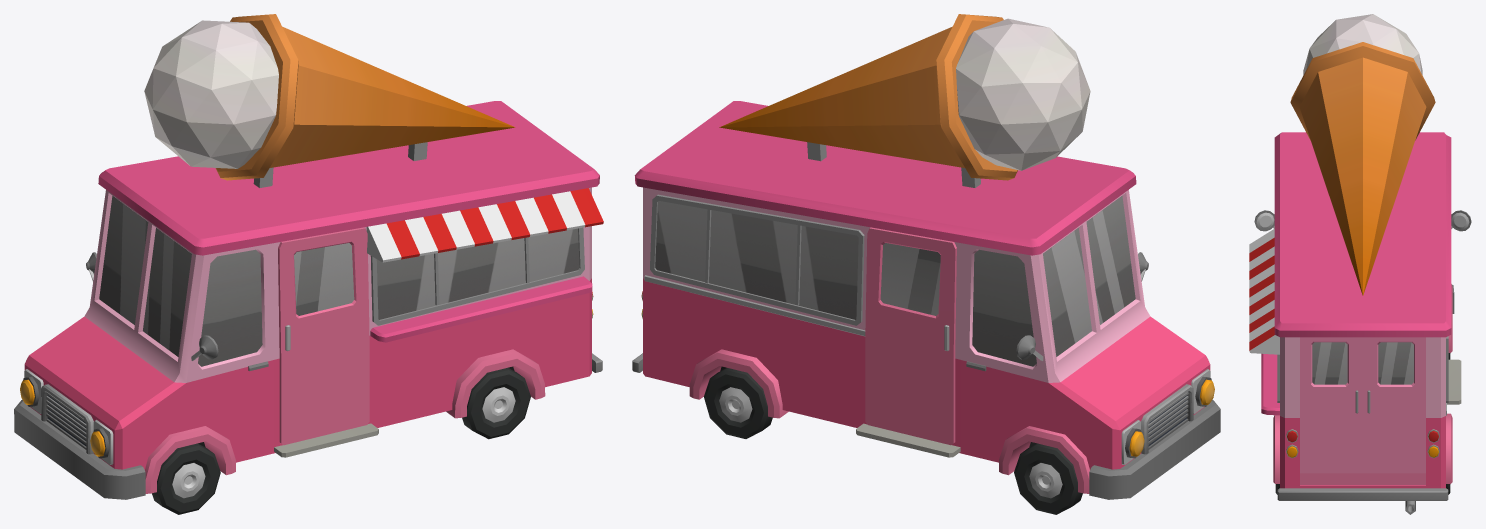
File: IceTruck_2_E.fbx
3 renders of one model, left to right at view 1: azimuth 30°, elevation 25°; view 2: azimuth 150°, elevation 25°; view 3: azimuth 270°, elevation 25°, orthographic. The views are drawn at different scales.
Parts seen in each view (by area): view 1: IceTruck_2_E, RL, FL; view 2: IceTruck_2_E, FR, RR; view 3: IceTruck_2_E.
Part boxes in pixels (<box>): IceTruck_2_E: <box>14,14,603,499</box>; RL: <box>462,367,530,439</box>; FL: <box>152,443,220,514</box>; IceTruck_2_E: <box>632,14,1220,499</box>; FR: <box>1014,443,1082,514</box>; RR: <box>704,368,772,438</box>; IceTruck_2_E: <box>1249,14,1471,514</box>.
Bounding box in the file's own units: 416 × 343 × 184.
